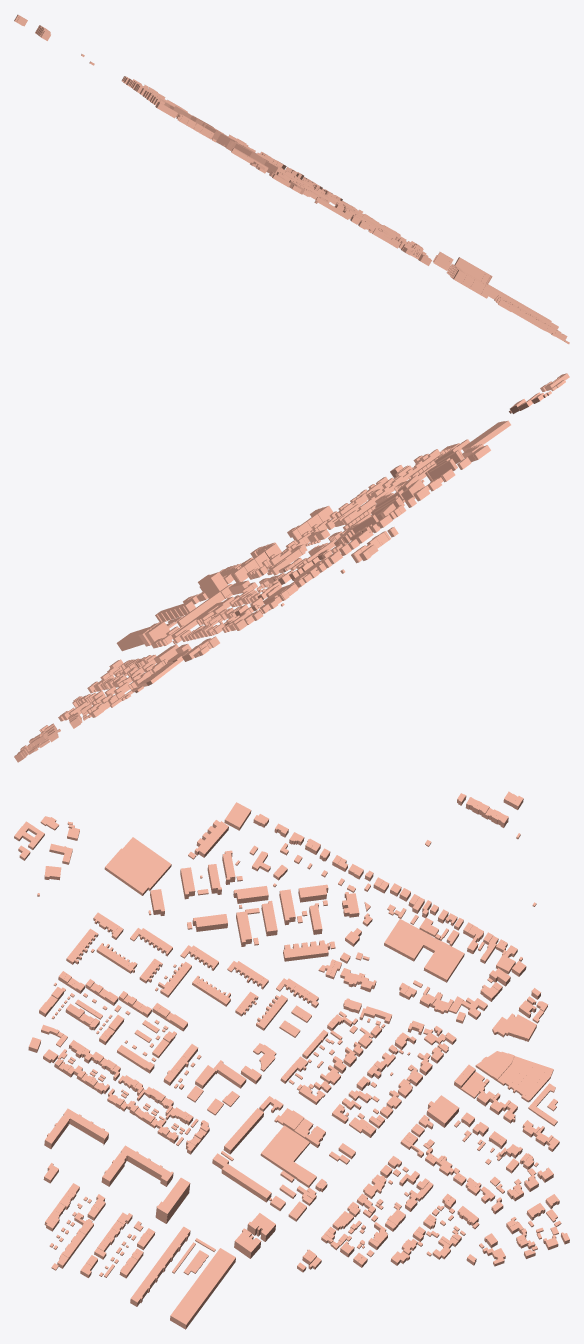
The picture shows the model from 3 angles, top to bottom: view 1: azimuth 30°, elevation 25°; view 2: azimuth 150°, elevation 25°; view 3: azimuth 270°, elevation 25°; orthographic projection. The views are drawn at different scales.
Bounding box in the file's own units: 577 × 424 × 643.
